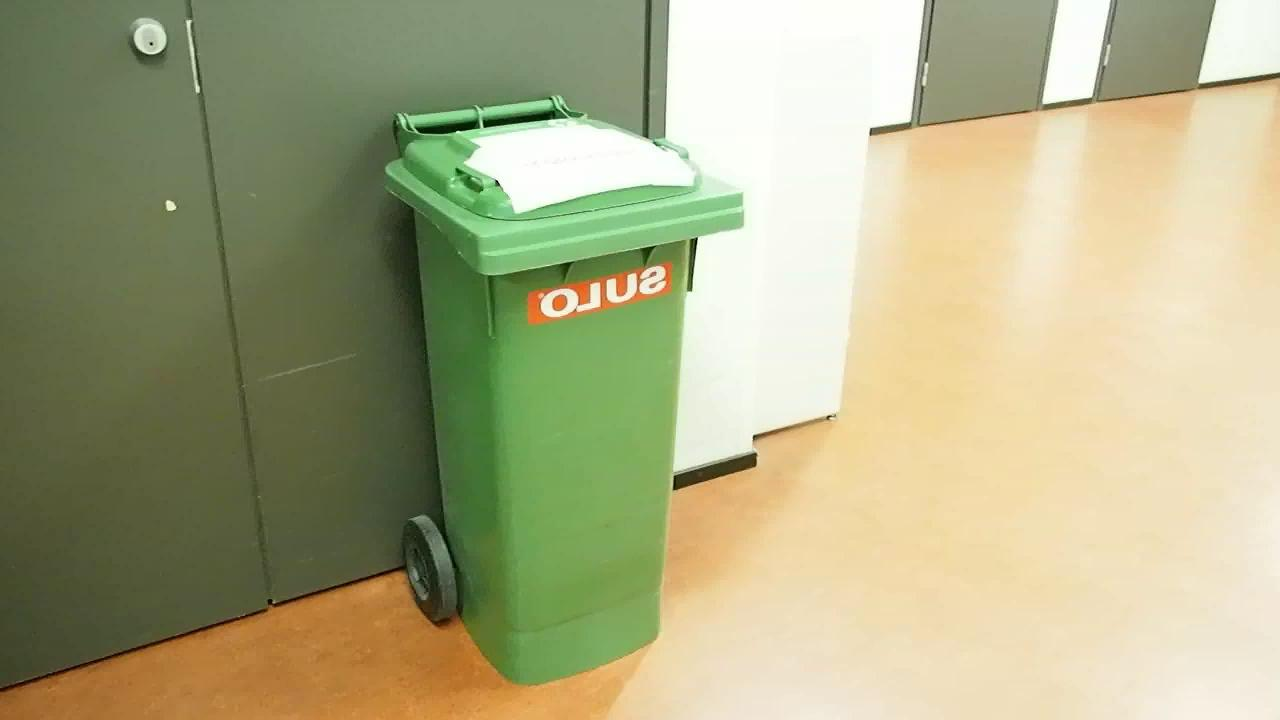trashbin: (377, 84, 751, 696)
